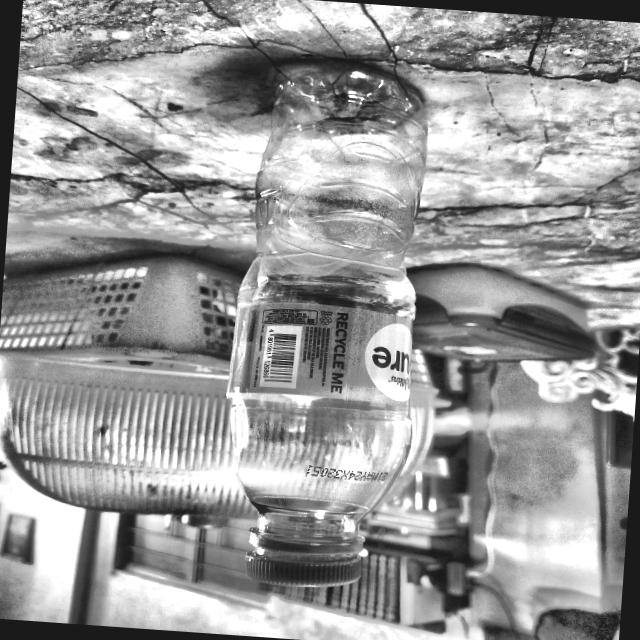Plastic-Bottle: (210, 54, 440, 598)
